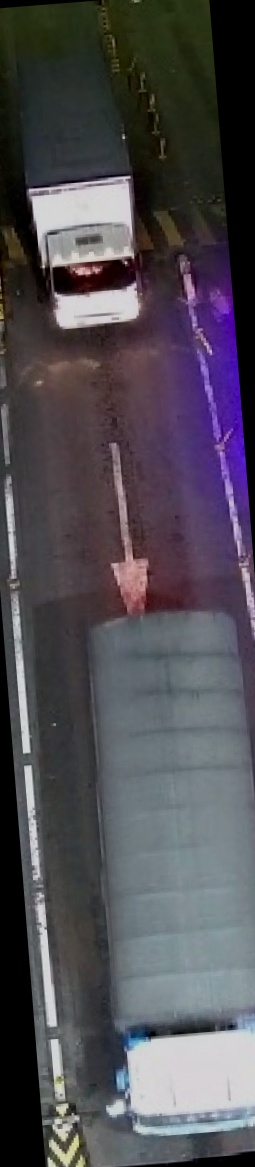truck: (81, 610, 255, 1134), (5, 17, 150, 331)
